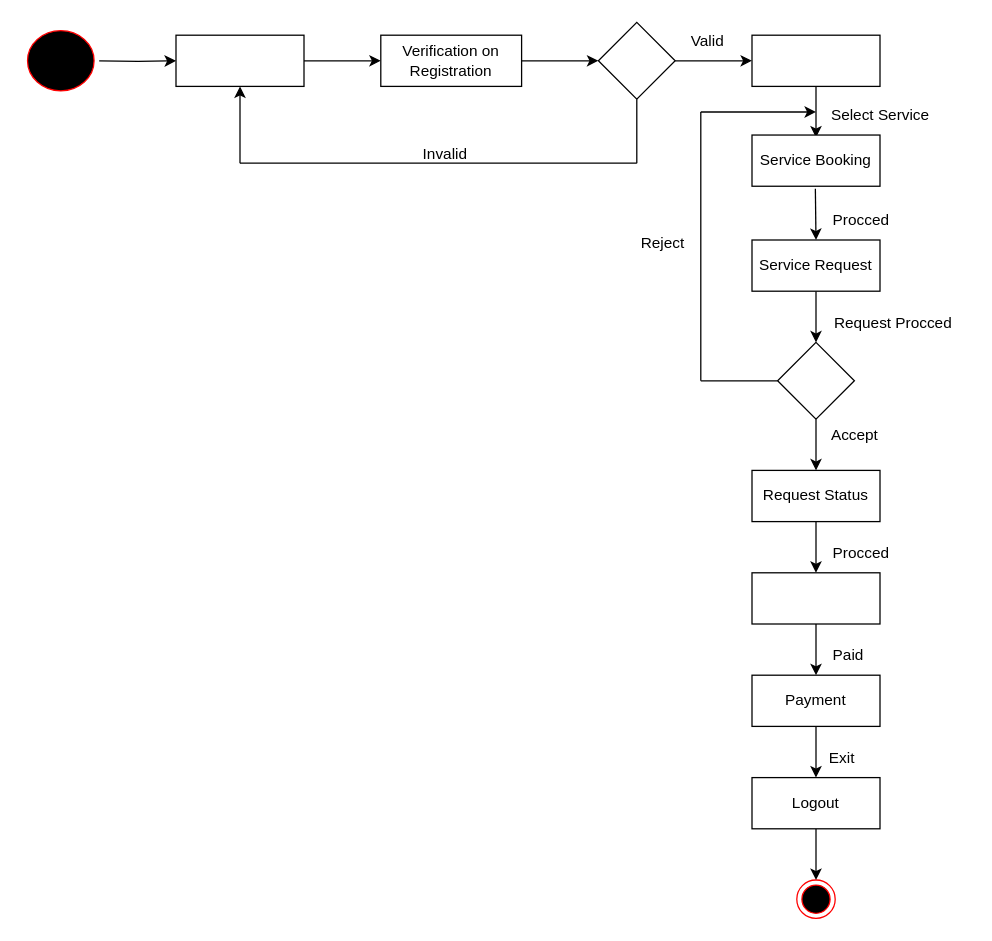
The diagram is 992 pixels wide and 941 high, and some of its shapes have lost their labels. Here are the shapes that lost their labels. From the top down, the box of each, then its label:
(175, 34, 304, 86): Fill Registration Form
(751, 34, 880, 86): Inquiry
(751, 572, 880, 624): Generate Service Report
